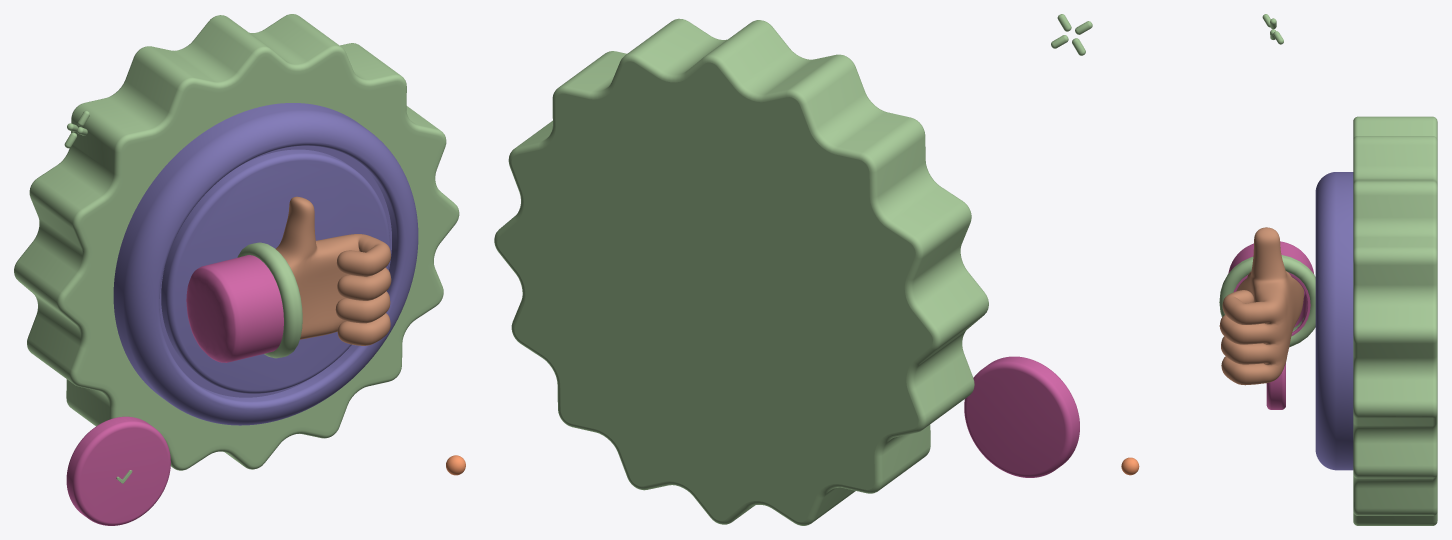
File: recommended-3d-animated-icon-1063434010287.glb
The picture shows the model from 3 angles, left to right: view 1: azimuth 30°, elevation 25°; view 2: azimuth 150°, elevation 25°; view 3: azimuth 270°, elevation 25°; orthographic projection. The views are drawn at different scales.
Parts seen in each view (by area): view 1: Circle, Cylinder.002, Cube, Cylinder.006, HAND.005, HAND.004; view 2: Circle, Cylinder.006; view 3: Circle, Cylinder.002, Cube, HAND.004, HAND.005, Cylinder.006.
Part boxes in pixels (x1,y1,x2,y2): Circle: (14, 14, 459, 470); Cylinder.002: (113, 103, 418, 425); Cube: (276, 196, 391, 345); Cylinder.006: (66, 416, 170, 525); HAND.005: (186, 255, 283, 362); HAND.004: (237, 242, 302, 358); Circle: (494, 18, 988, 525); Cylinder.006: (964, 356, 1079, 477); Circle: (1353, 116, 1437, 525); Cylinder.002: (1315, 172, 1353, 470); Cube: (1219, 227, 1303, 385); HAND.004: (1219, 255, 1315, 347); HAND.005: (1228, 241, 1313, 336); Cylinder.006: (1266, 363, 1285, 409).
Bounding box in the file's own units: 2.4 × 2.31 × 1.68.
